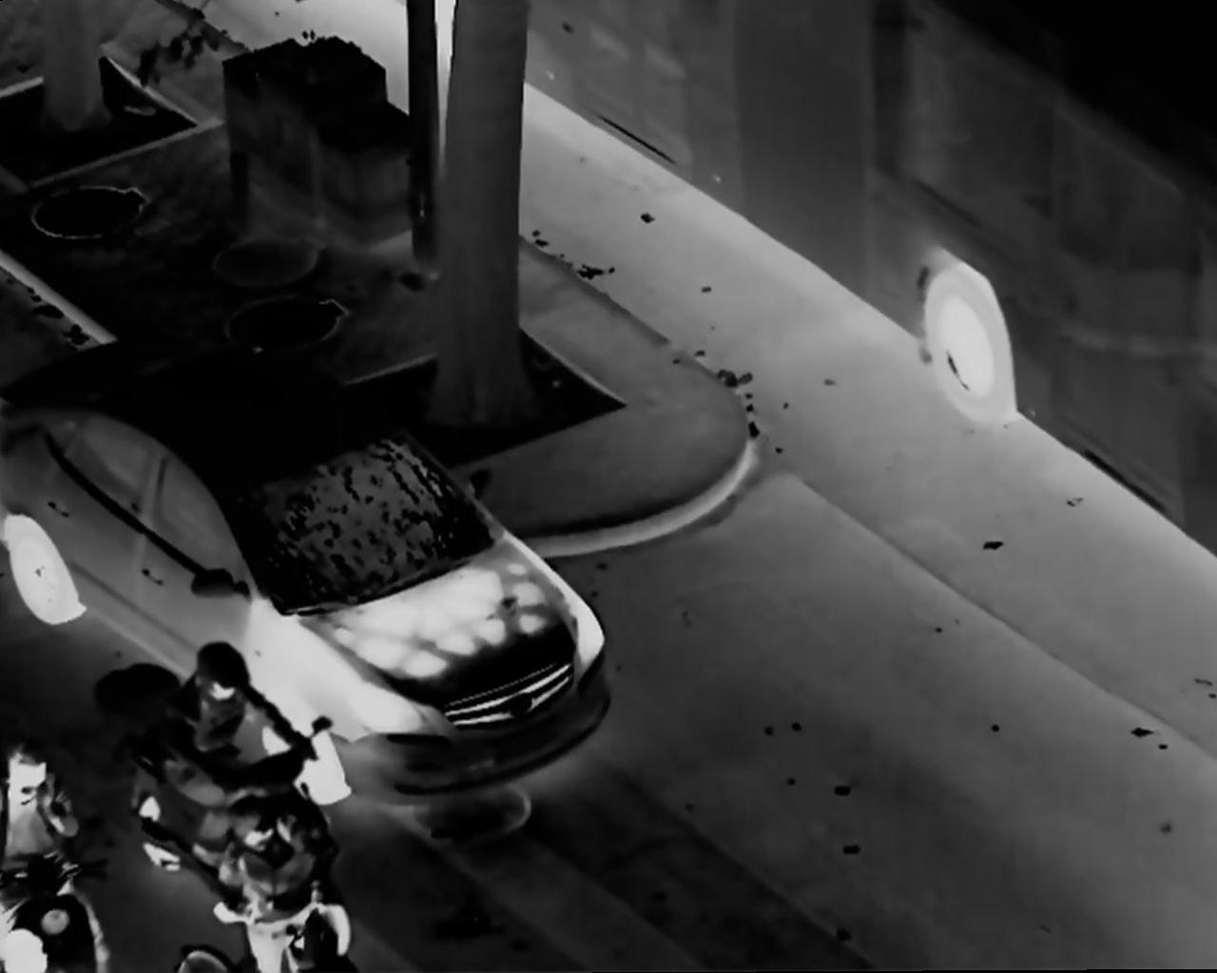person: (144, 629, 298, 904), (222, 794, 334, 973)
